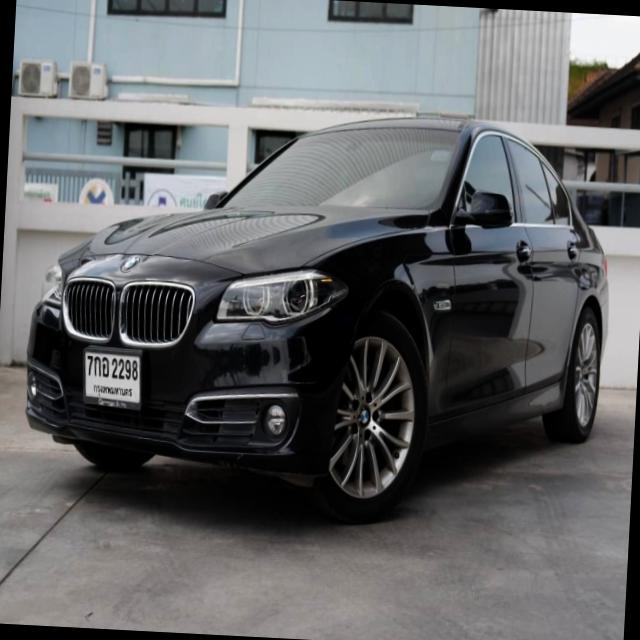license_plate: (80, 342, 150, 421)
